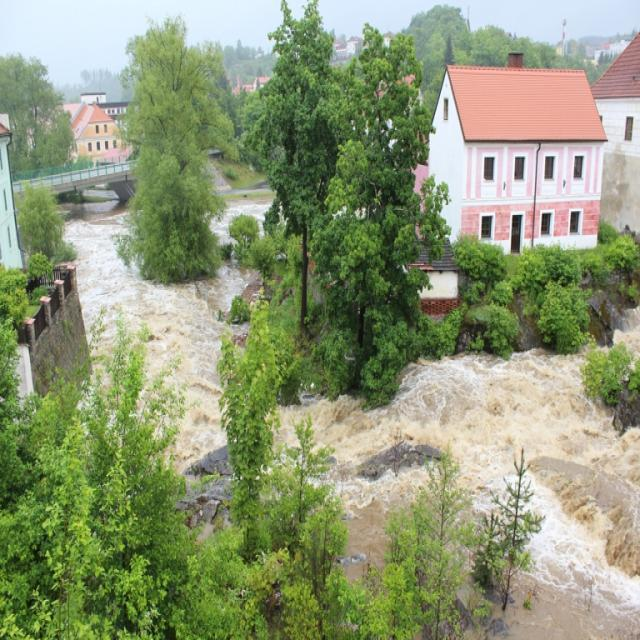flood: (280, 349, 640, 640), (61, 190, 257, 472), (216, 193, 269, 240), (615, 307, 640, 356)
house: (432, 62, 602, 246), (604, 32, 640, 181), (73, 99, 122, 157)
